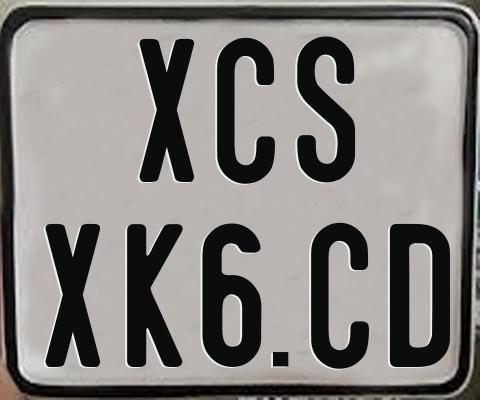6: (202, 222, 264, 368)
C: (309, 223, 373, 370), (215, 38, 273, 186)
D: (389, 224, 455, 367)
K: (127, 223, 186, 371)
S: (295, 33, 355, 180)
X: (46, 221, 105, 364), (139, 37, 195, 180)
